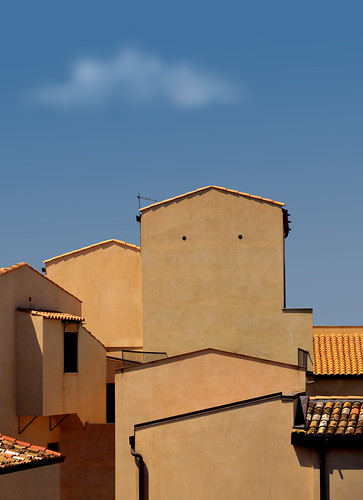building: (1, 188, 307, 500)
sky: (1, 1, 363, 258)
